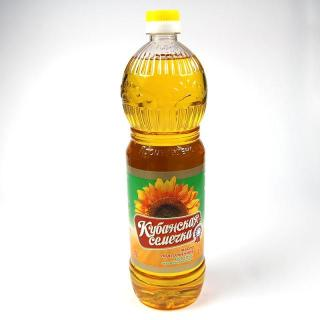Plastic-bottle: (117, 9, 219, 313)
